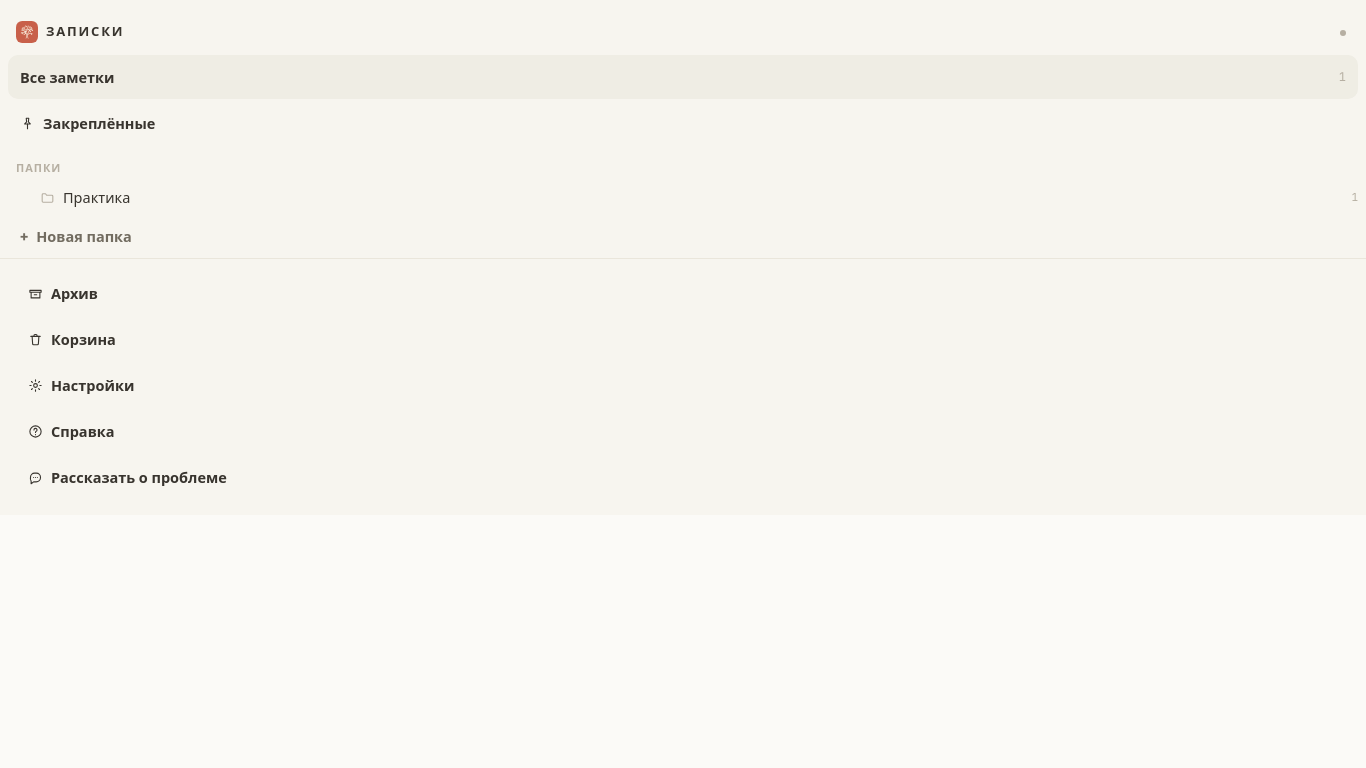
Test: меню папки открывается жестом из ТЗ › долгое нажатие по папке открывает меню
The image size is (1366, 768).
Right-click the list item: (97, 198) [0,180,1365,214]
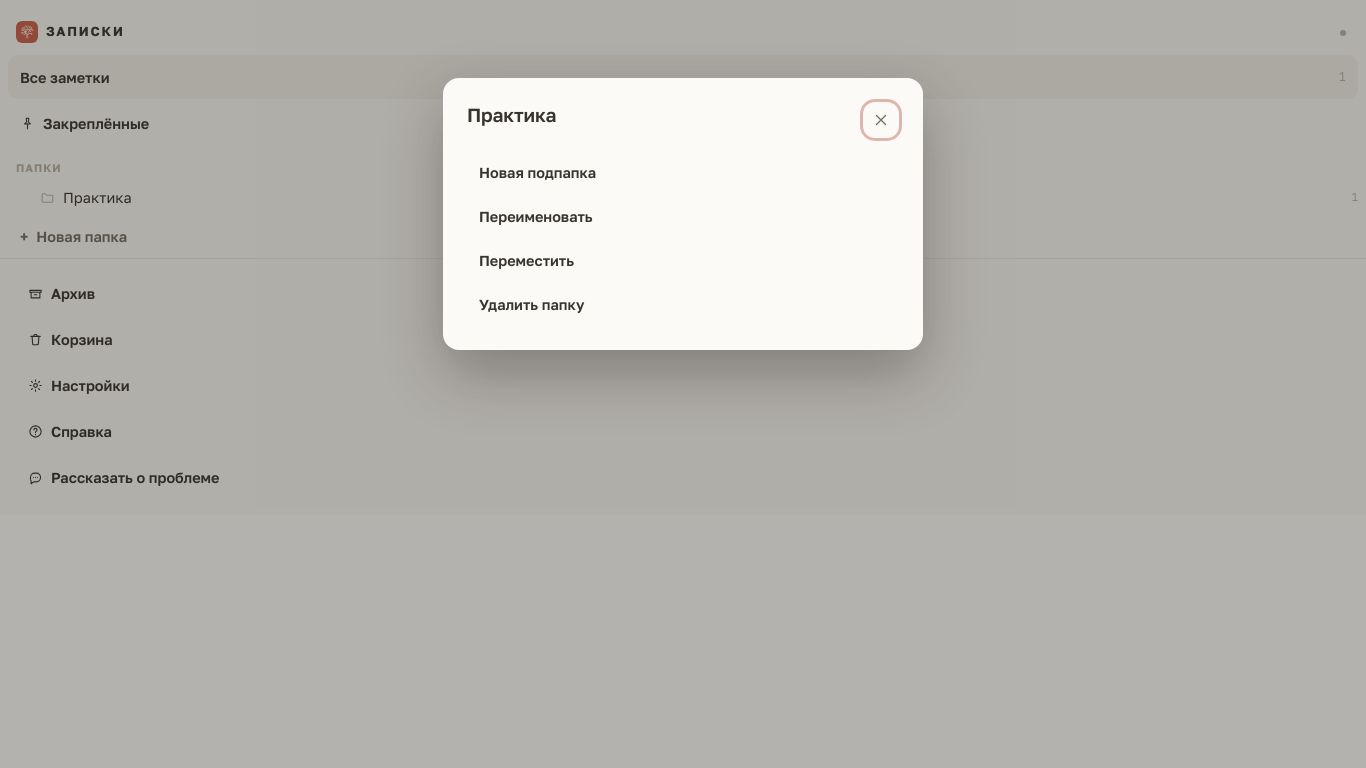
Now the menu is shown, box [467,150,899,326]
